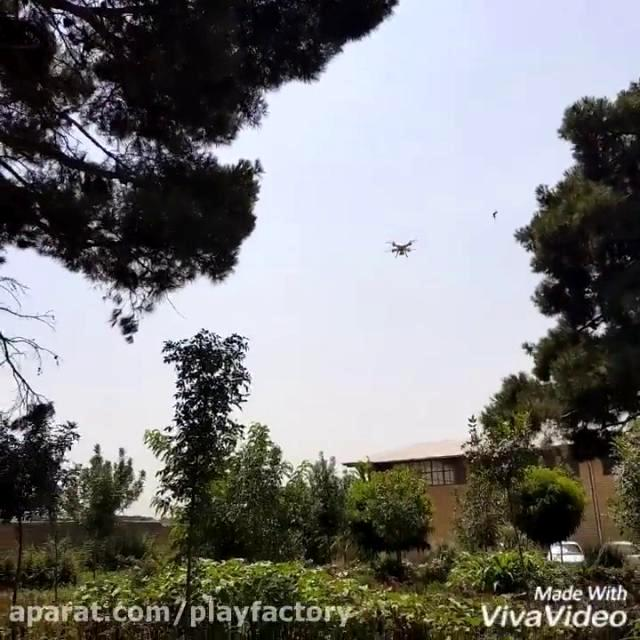drone: (382, 230, 422, 262)
